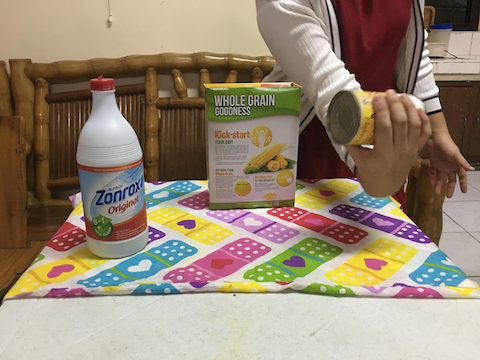bottle: (75, 72, 157, 261)
box: (190, 76, 309, 215)
can: (325, 86, 429, 149)
grab: (346, 88, 432, 163)
